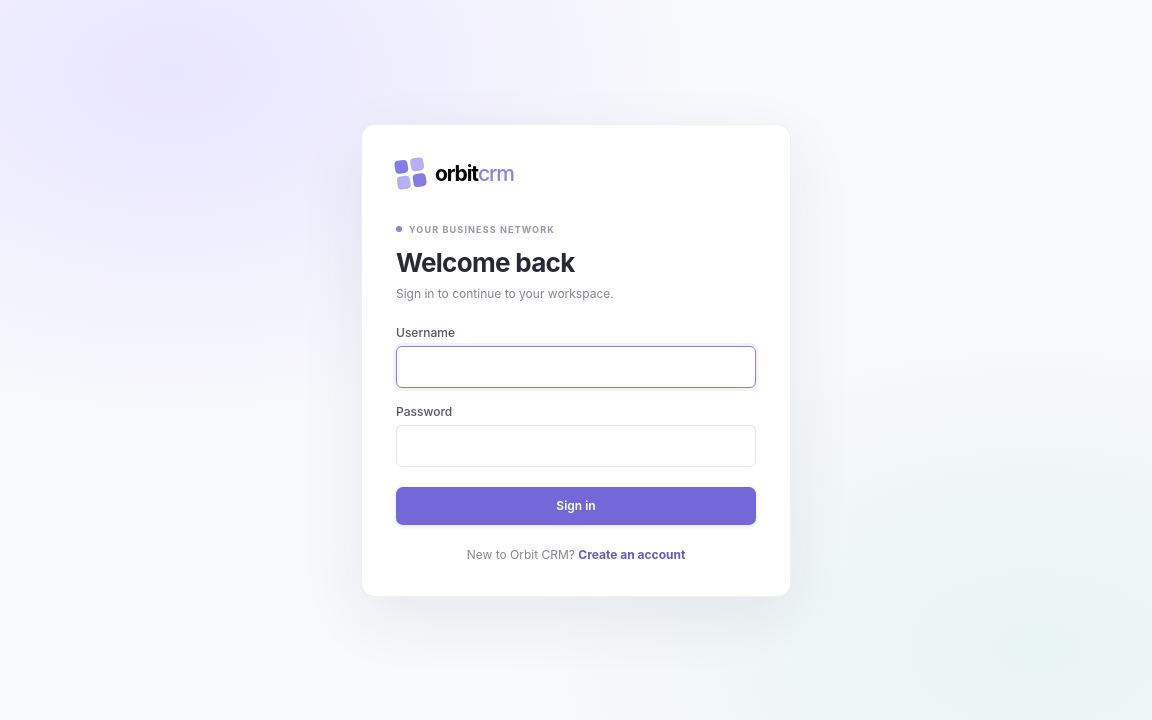
Test: deletes a selected contact through the backend
Type "taylor" into the field labelled "Username" at coordinates (576, 366), box [396,346,756,388]
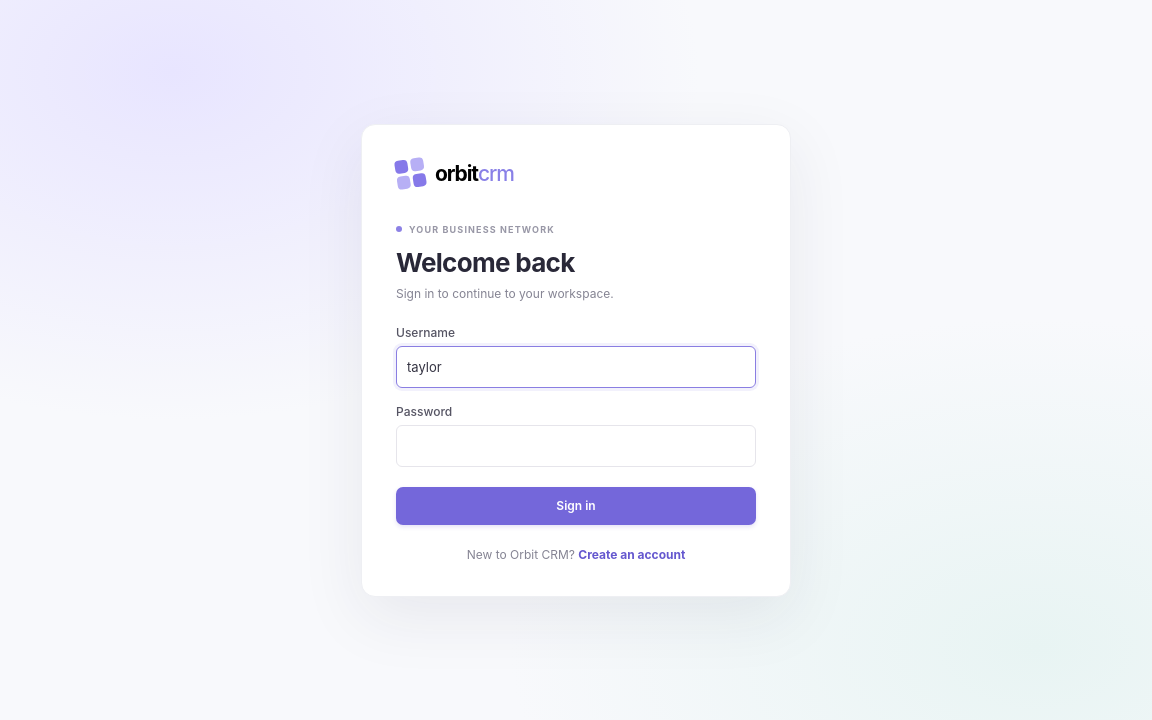
Type "a-long-unique-password" into the password field labelled "Password" at coordinates (576, 446), box [396,424,756,466]
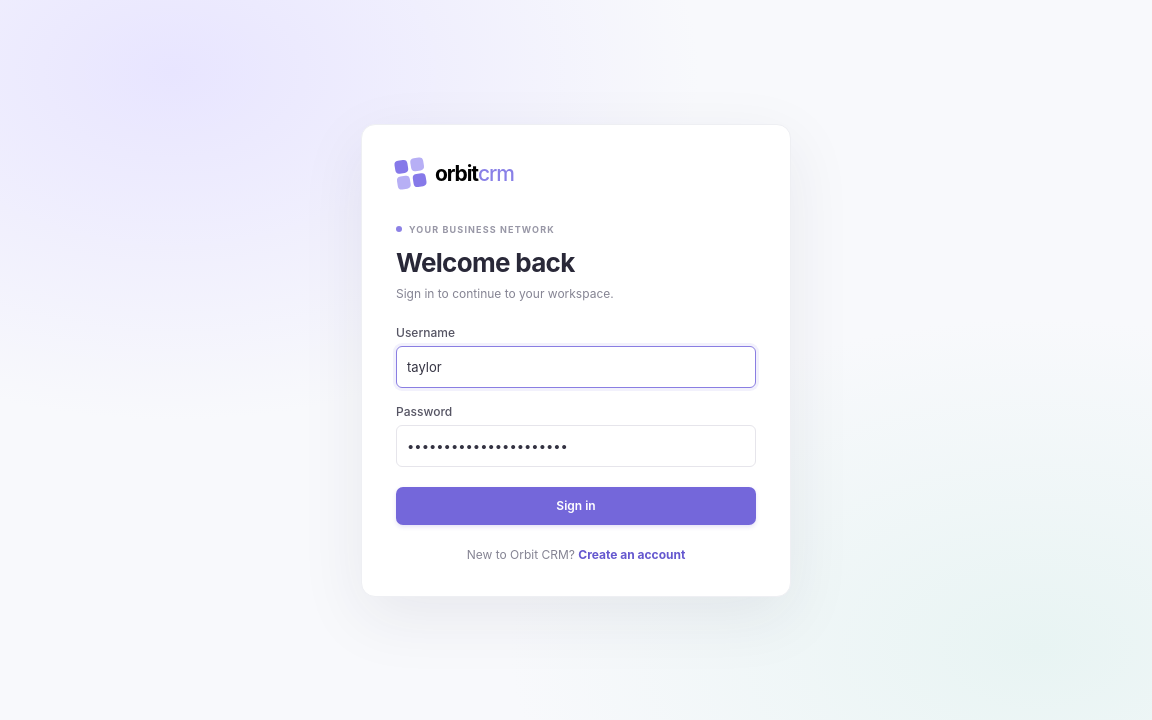
Click the button "Sign in" at coordinates (576, 506), box [396,486,756,524]
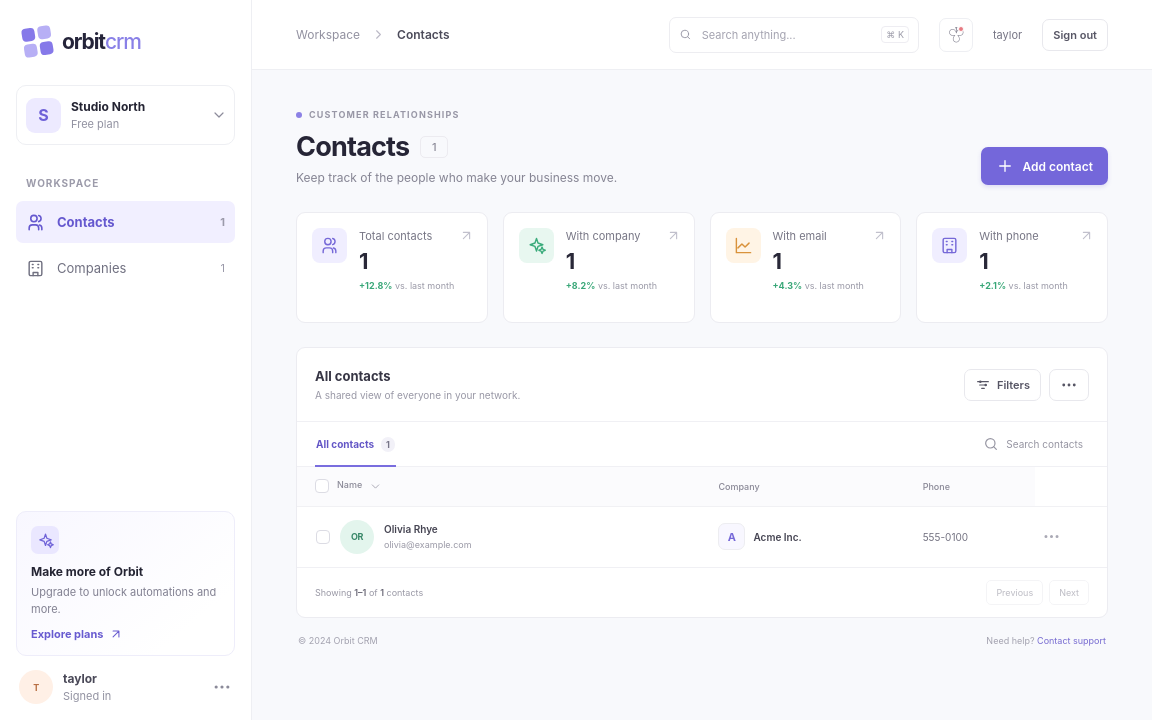
Check: the text "Sign in" is gone
Check: the button "Olivia Rhye" is shown, box [384,523,438,535]
Click the checkbox named "Select Olivia Rhye" at coordinates (323, 537), box [316,530,330,544]
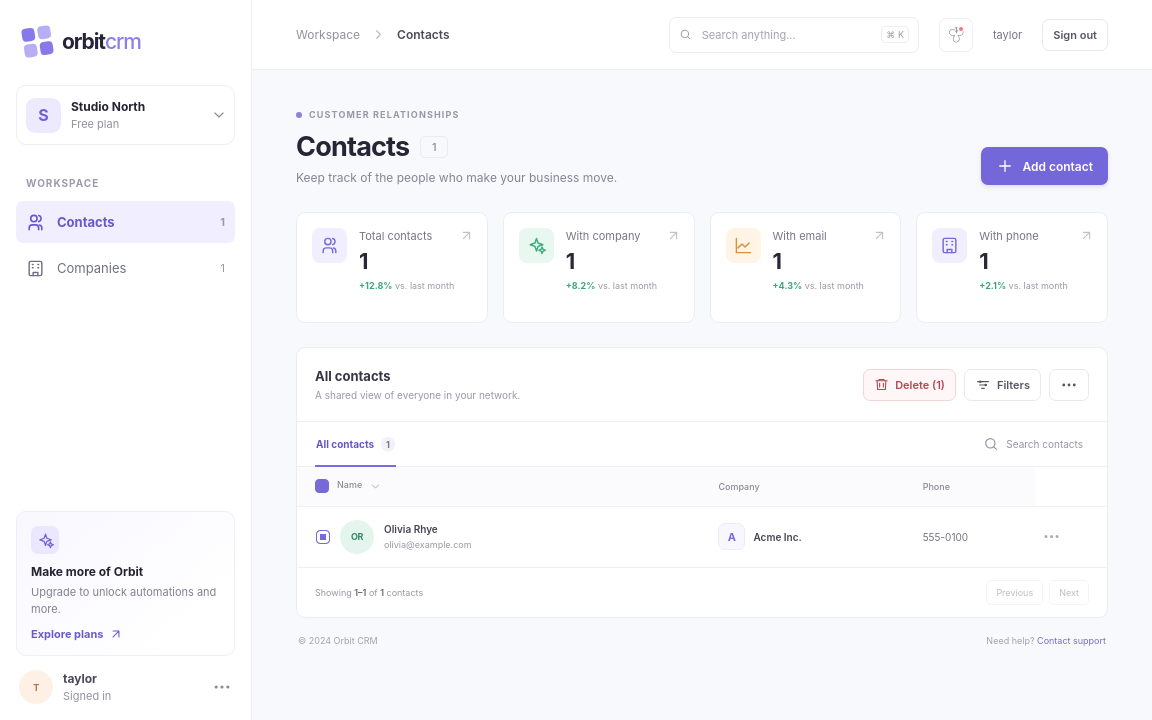
Click the button with aria-label "Delete 1 selected contacts" at coordinates (910, 384), box [863,368,956,400]
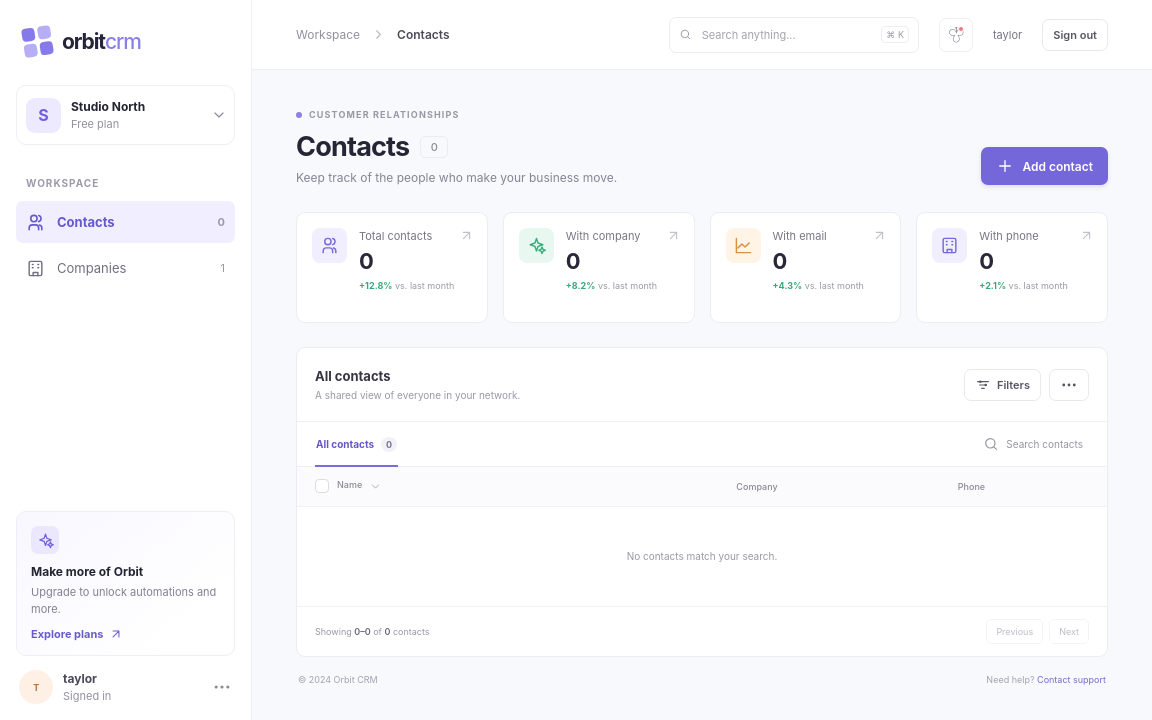
Check: the button "Olivia Rhye" is gone
